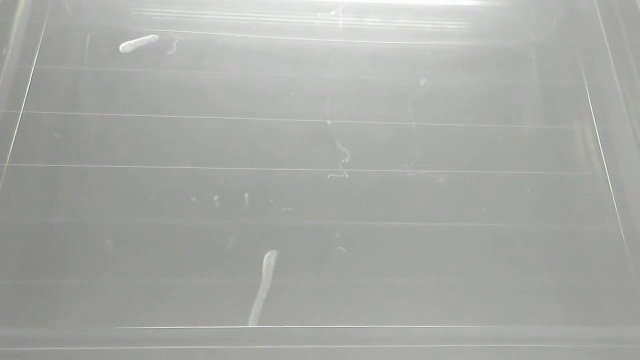alpha: (245, 247, 281, 331), (115, 33, 162, 58)
